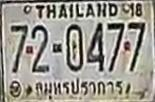0: (66, 24, 82, 70)
2: (29, 24, 48, 70)
4: (86, 22, 104, 70)
7: (10, 24, 27, 72), (107, 22, 124, 70), (128, 21, 144, 70)
SPK: (34, 77, 125, 101)
